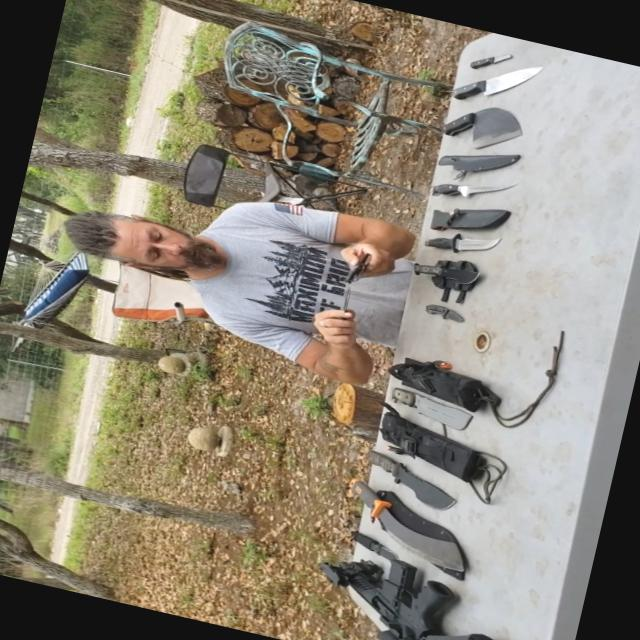knife: (326, 469, 481, 578), (348, 442, 463, 519), (428, 88, 524, 158), (445, 46, 541, 116), (380, 380, 478, 438), (415, 156, 511, 215), (412, 213, 508, 267), (340, 518, 420, 570), (314, 258, 371, 330), (392, 250, 484, 290), (404, 292, 472, 330), (460, 38, 517, 79)
long weapon: (291, 526, 521, 639)
